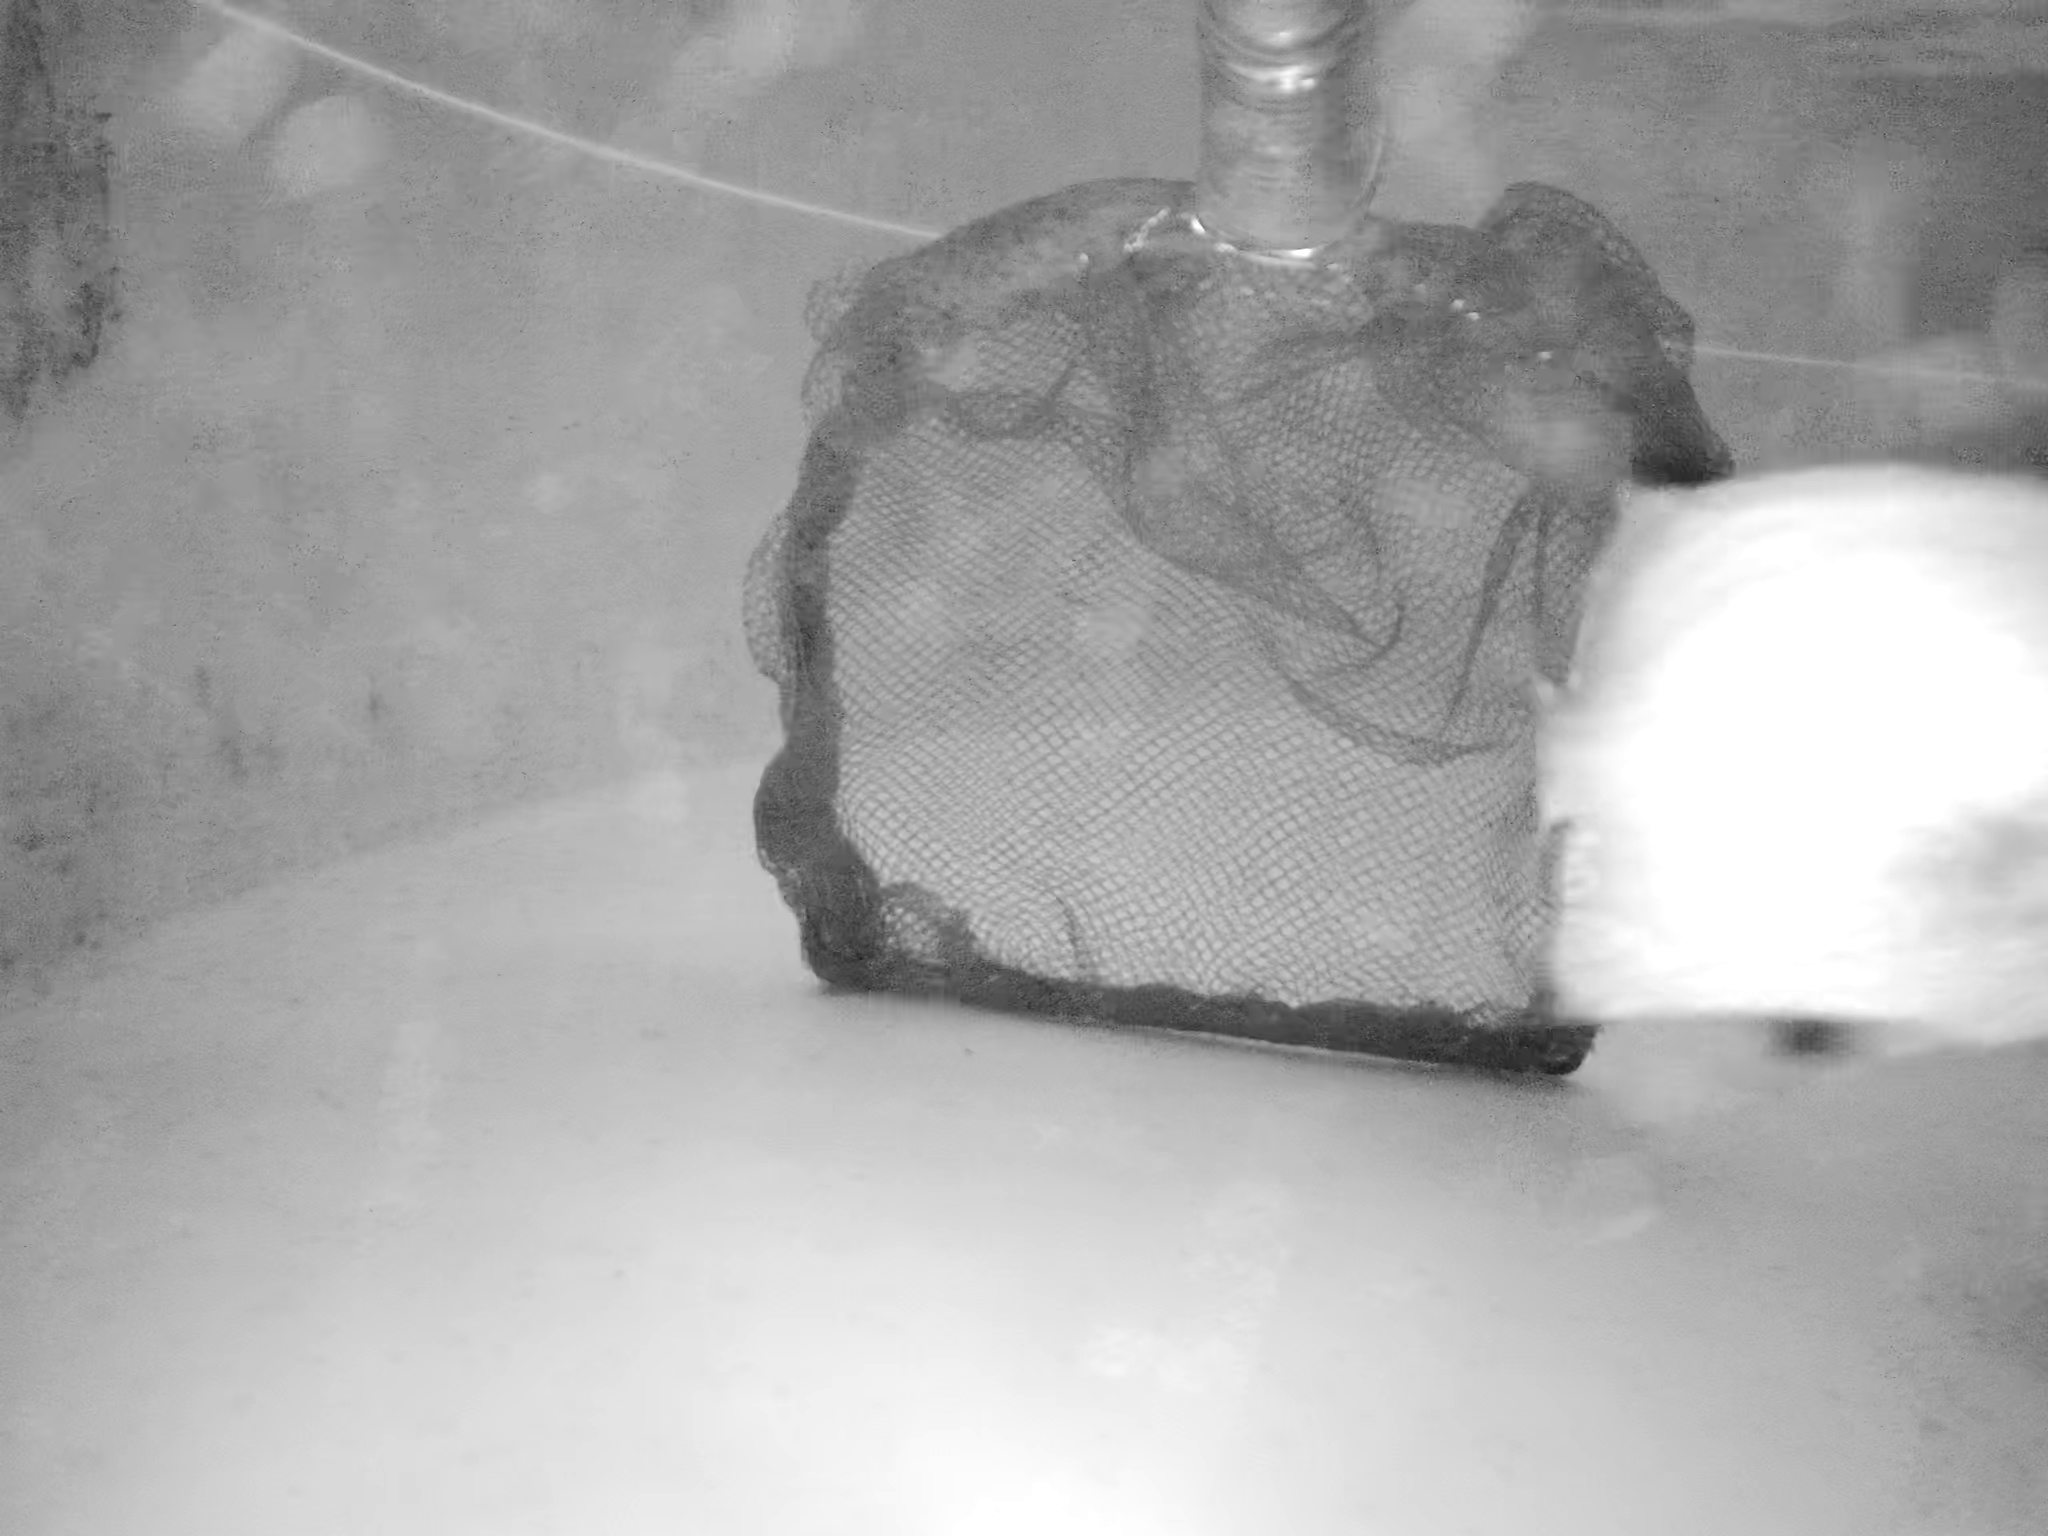fish: (1517, 437, 2048, 1028)
